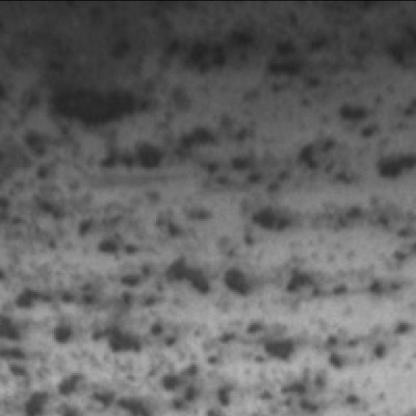pitted_surface: (19, 27, 414, 416)
